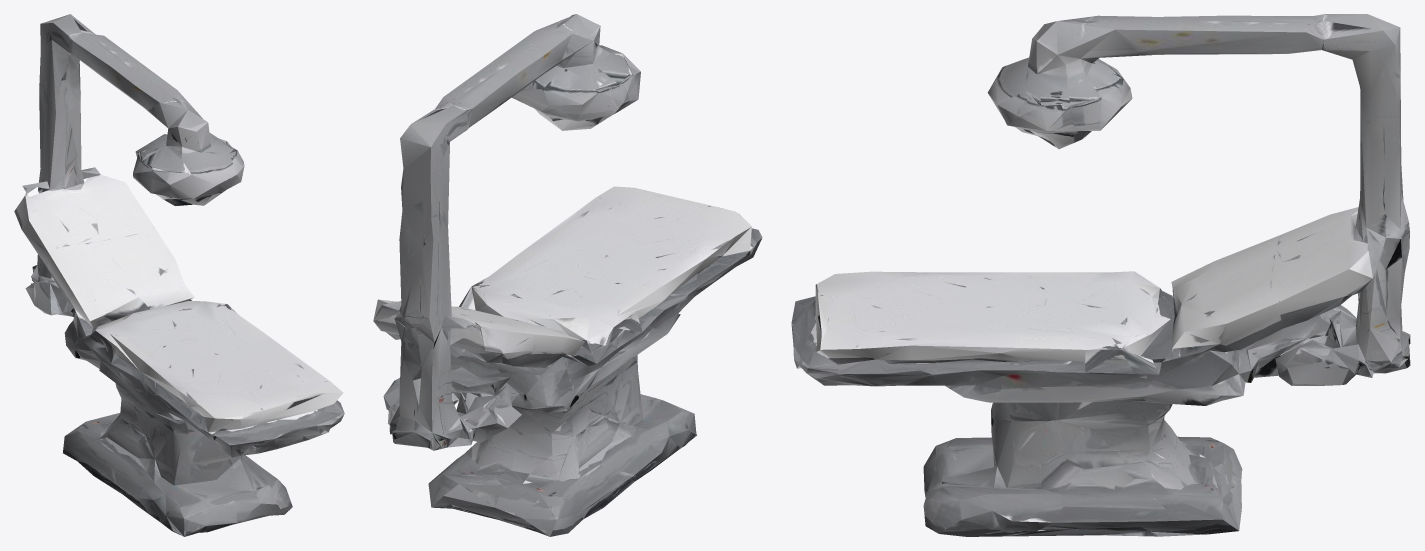
File: medical_bed.glb
The picture shows the model from 3 angles, left to right: view 1: azimuth 30°, elevation 25°; view 2: azimuth 150°, elevation 25°; view 3: azimuth 270°, elevation 25°; orthographic projection. The views are drawn at different scales.
Visible parts, largest first — view 1: prop; view 2: prop; view 3: prop.
Boxes of the visible parts, x1,y1,x2,y2 form: prop: (14, 14, 344, 536); prop: (373, 14, 762, 536); prop: (791, 14, 1410, 536).
Size of the model in its own units: 0.5942 by 1.62 by 1.89.
Materials: 1 (1 with a texture image).
